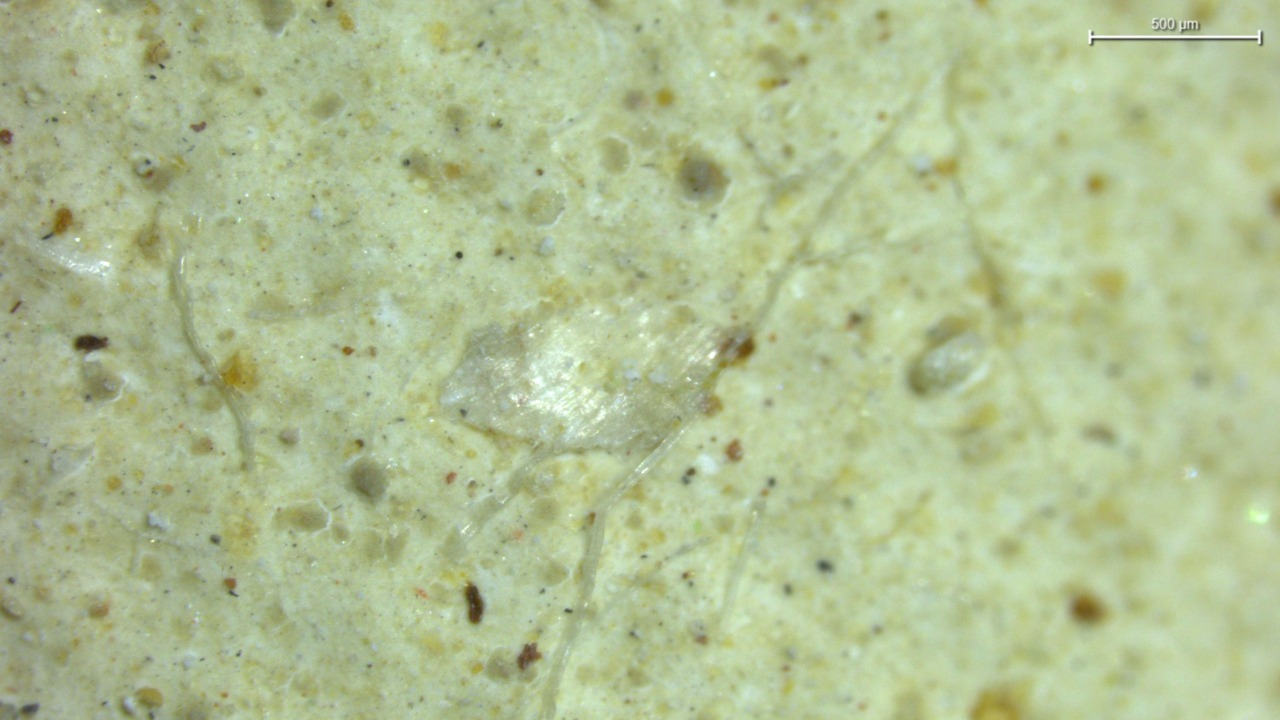microplastic_fragment: (440, 310, 750, 454), (160, 227, 254, 471)
